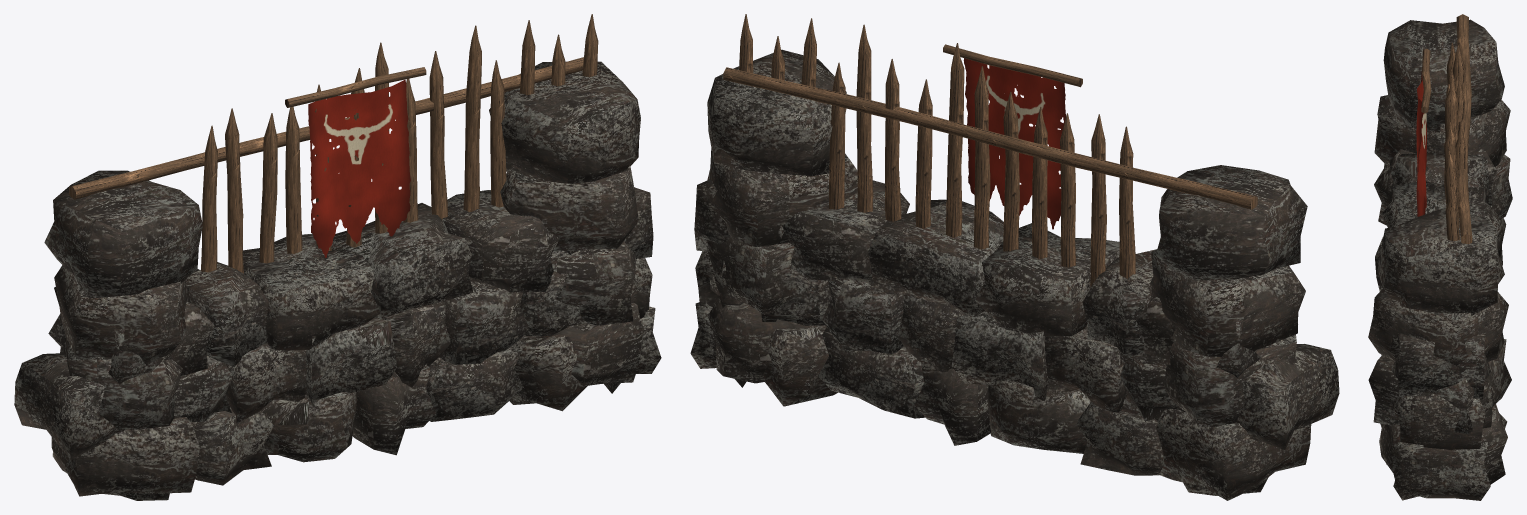
The model's file is SM_Bld_Stone_FenceB.gltf.
3 views of the same model, side by side, from view 1: azimuth 30°, elevation 25°; view 2: azimuth 150°, elevation 25°; view 3: azimuth 270°, elevation 25° (orthographic). The views are drawn at different scales.
Visible parts, largest first — view 1: SM_Bld_Stone_FenceB; view 2: SM_Bld_Stone_FenceB; view 3: SM_Bld_Stone_FenceB.
Part boxes in pixels (x1,y1,x2,y2): SM_Bld_Stone_FenceB: (14, 14, 661, 500); SM_Bld_Stone_FenceB: (690, 14, 1339, 500); SM_Bld_Stone_FenceB: (1368, 14, 1512, 500).
Bounding box in the file's own units: 4.56 × 2.77 × 1.1.
3 materials, 3 textured.
